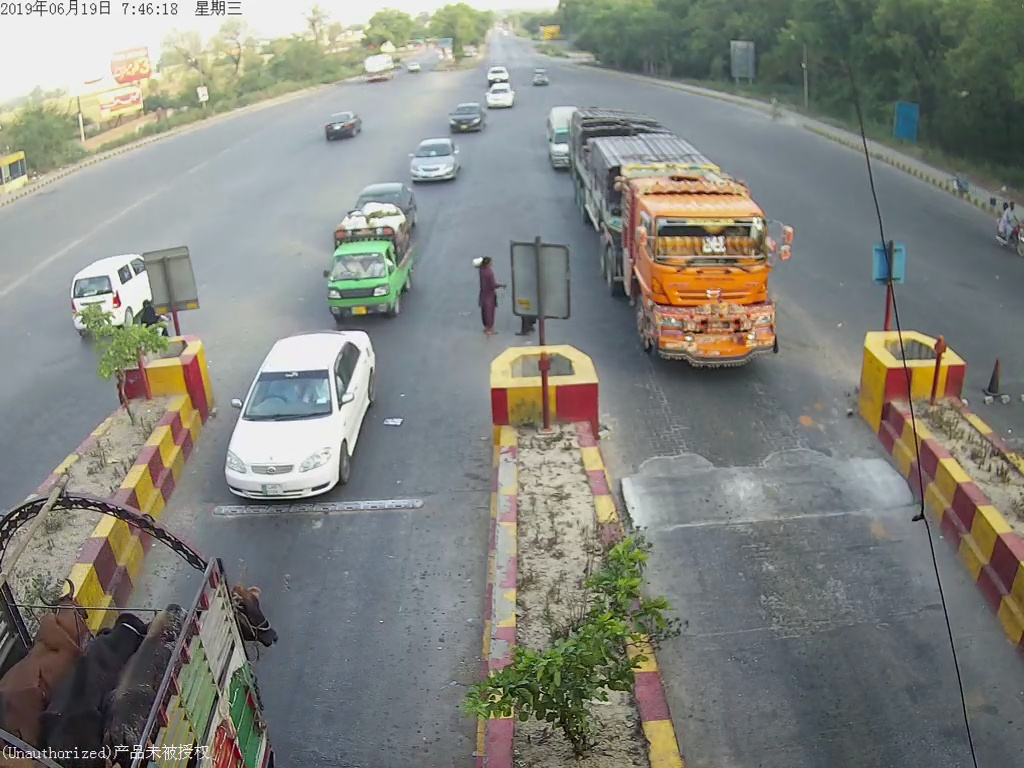Cat-1: (223, 337, 375, 500), (324, 205, 412, 324)
Cat-5: (577, 122, 792, 373)
